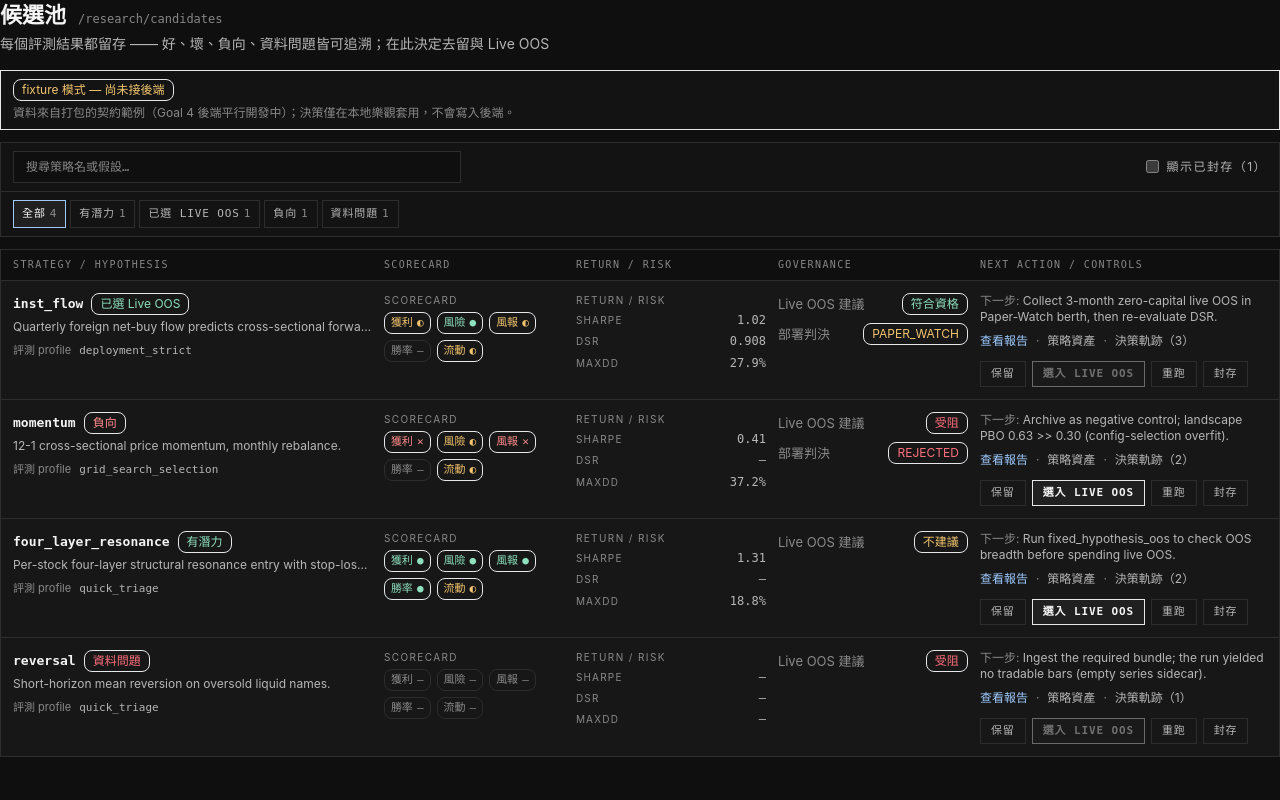
Test: CandidatePoolPage — fixture fallback › archived toggle reveals the archived candidate (bad/archived stays discoverable)
expect the heading "inst_flow" is shown: met, box left=13, top=295, right=84, bottom=314
Click the checkbox: (1152, 167) left=1146, top=160, right=1159, bottom=173
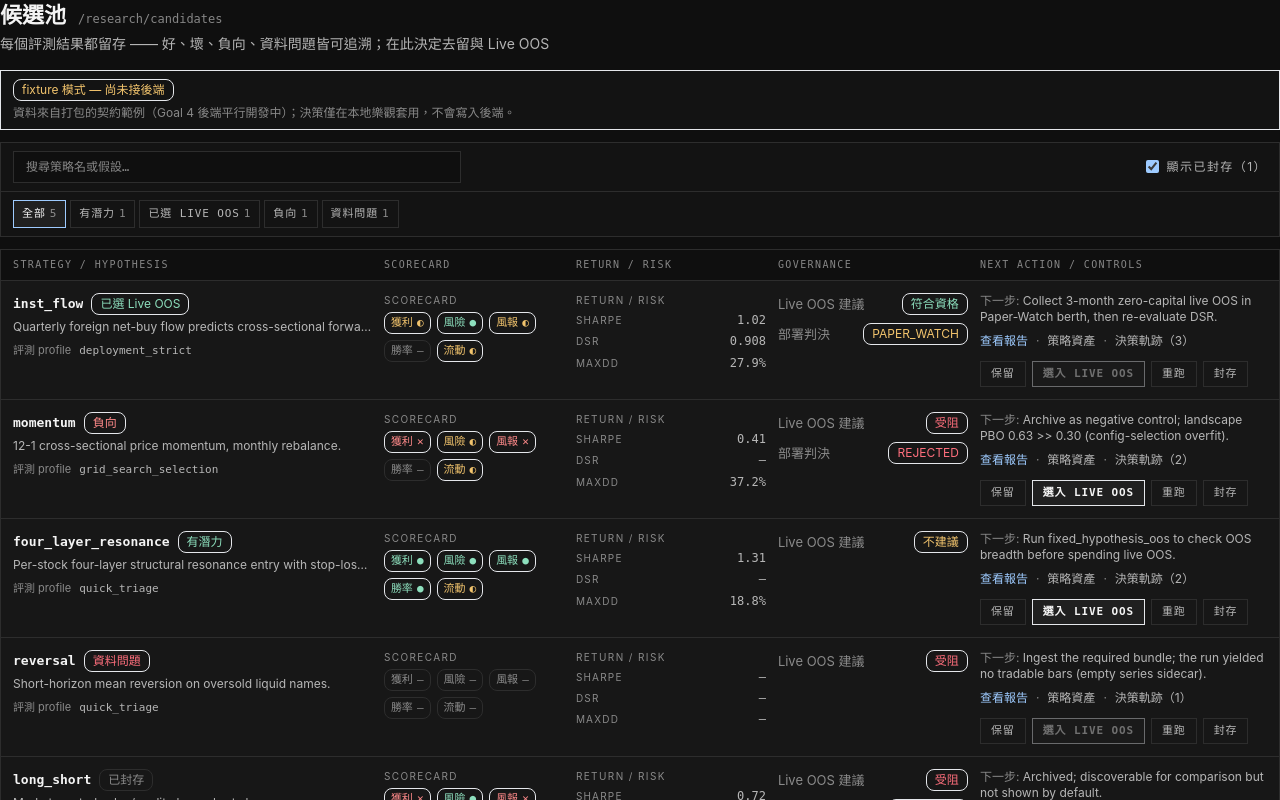
expect the heading "long_short" is shown: met, box left=13, top=771, right=91, bottom=790
